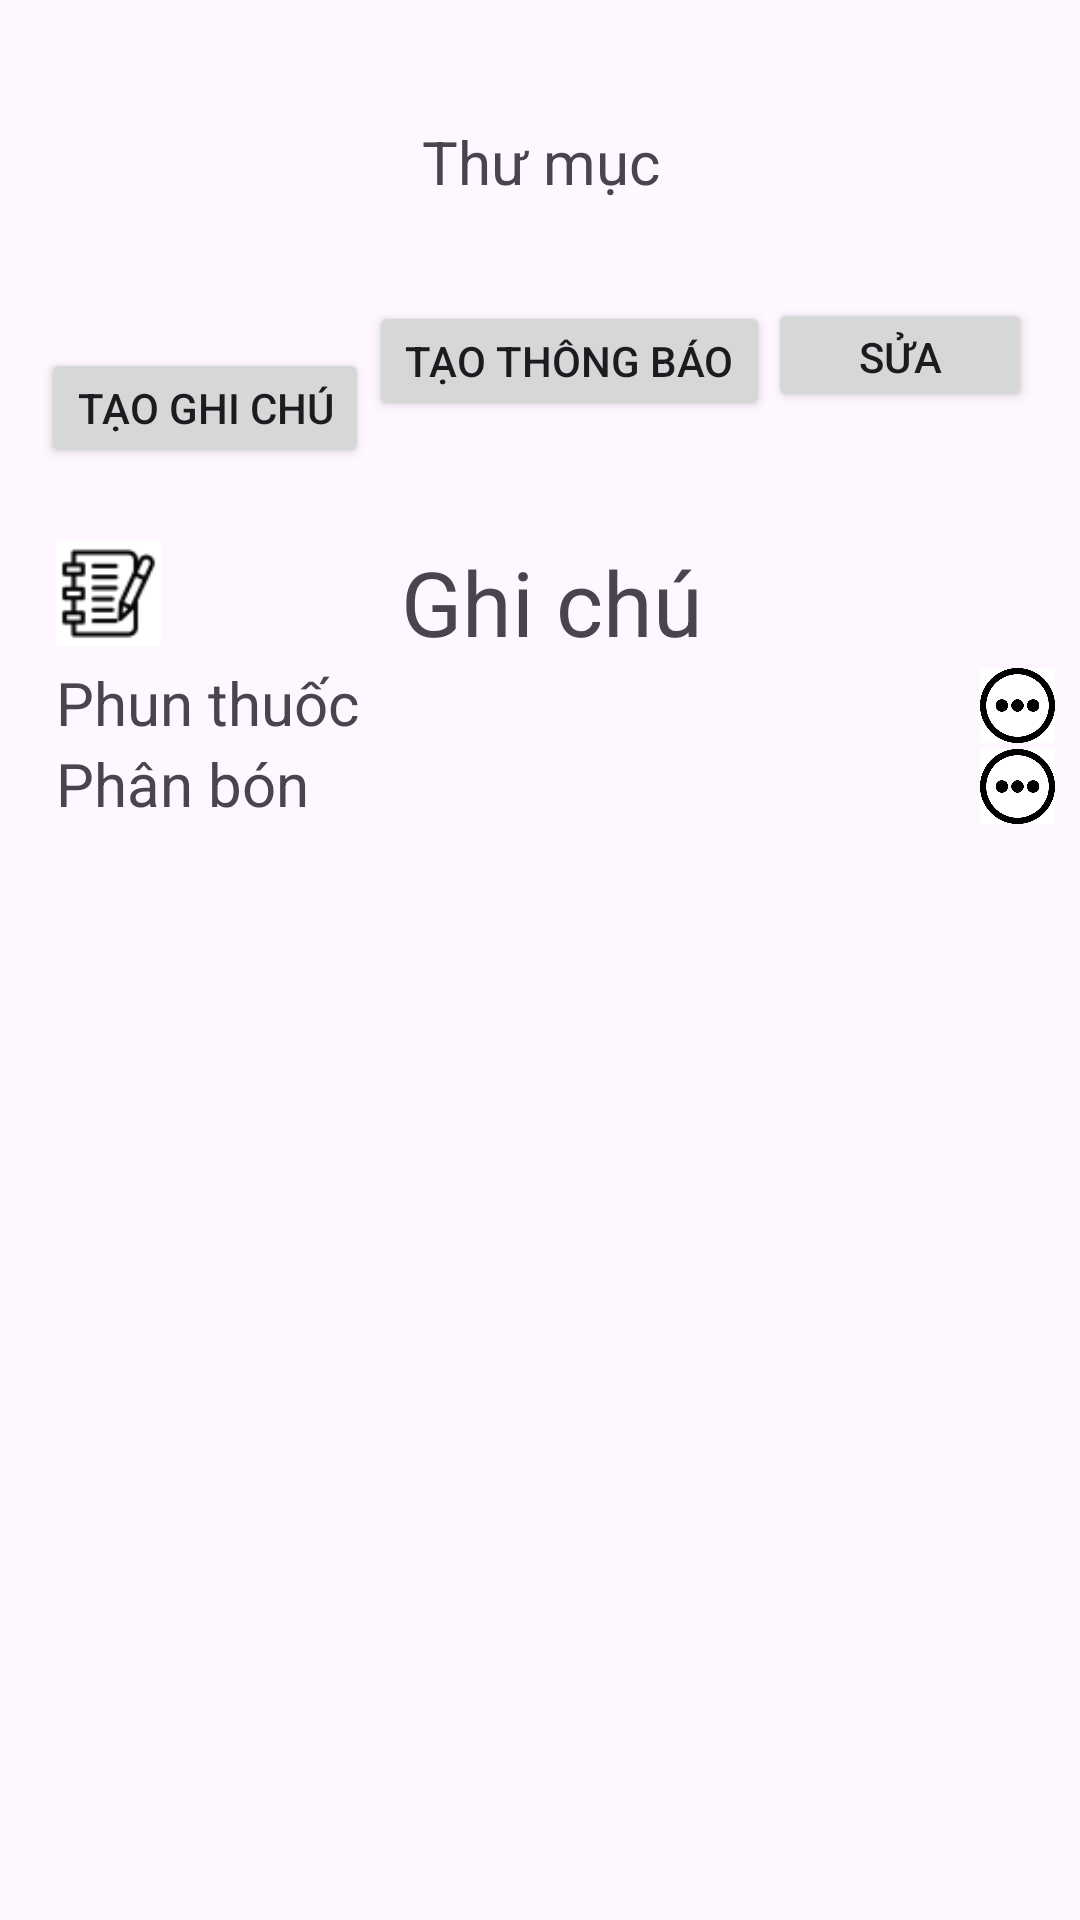

Screen size 1080x1920. Icon name, then its box in pixels as (x1, y1, x2, y2):
notebook: (61, 549, 156, 638)
threedot: (980, 668, 1055, 743), (980, 749, 1055, 824)
